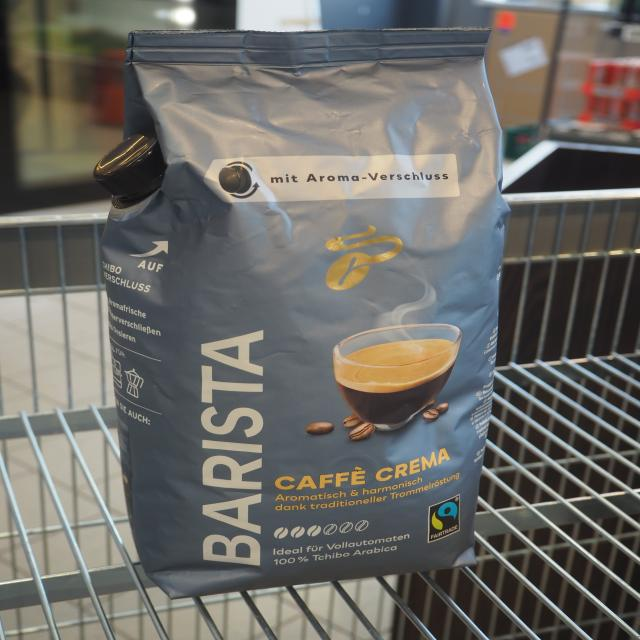Barista CC: (87, 22, 514, 604)
